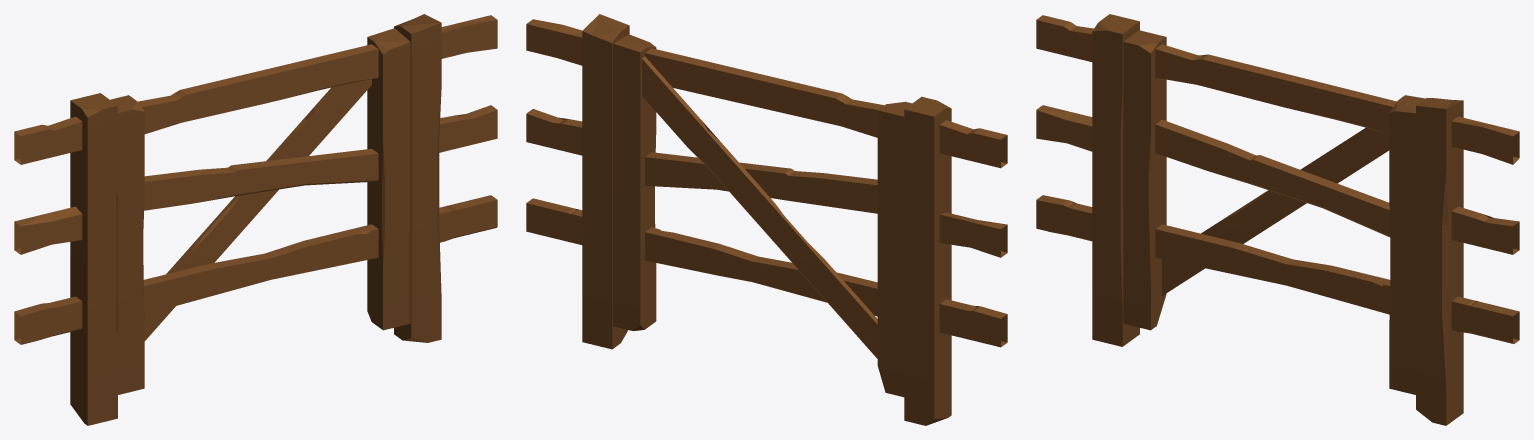
File: Bld_02_Fence_Wood_Gate_Single_Short_Sides_Worned_01.obj
3 views of the same model, side by side, from view 1: azimuth 30°, elevation 25°; view 2: azimuth 150°, elevation 25°; view 3: azimuth 330°, elevation 25° (orthographic).
Parts seen in each view (by area): view 1: Bld_02_Fence_Wood_Gate_Single_Short_Worned_01, Bld_02_Fence_Wood_Gate_Single_Short_Sides_Worned_01; view 2: Bld_02_Fence_Wood_Gate_Single_Short_Worned_01, Bld_02_Fence_Wood_Gate_Single_Short_Sides_Worned_01; view 3: Bld_02_Fence_Wood_Gate_Single_Short_Worned_01, Bld_02_Fence_Wood_Gate_Single_Short_Sides_Worned_01.
Boxes of the visible parts, bbox=[...] form: Bld_02_Fence_Wood_Gate_Single_Short_Worned_01: bbox=[110, 28, 410, 394]; Bld_02_Fence_Wood_Gate_Single_Short_Sides_Worned_01: bbox=[14, 14, 497, 425]; Bld_02_Fence_Wood_Gate_Single_Short_Worned_01: bbox=[613, 34, 911, 397]; Bld_02_Fence_Wood_Gate_Single_Short_Sides_Worned_01: bbox=[526, 14, 1007, 425]; Bld_02_Fence_Wood_Gate_Single_Short_Worned_01: bbox=[1123, 30, 1425, 394]; Bld_02_Fence_Wood_Gate_Single_Short_Sides_Worned_01: bbox=[1036, 14, 1519, 425].
Bounding box in the file's own units: 2.44 × 1.55 × 0.155.
Materials: 1 (1 with a texture image).
